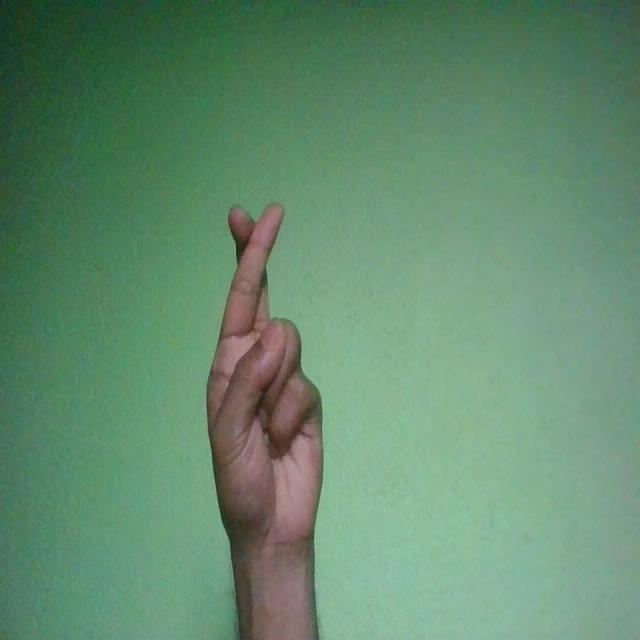Ok: (207, 204, 324, 563)
